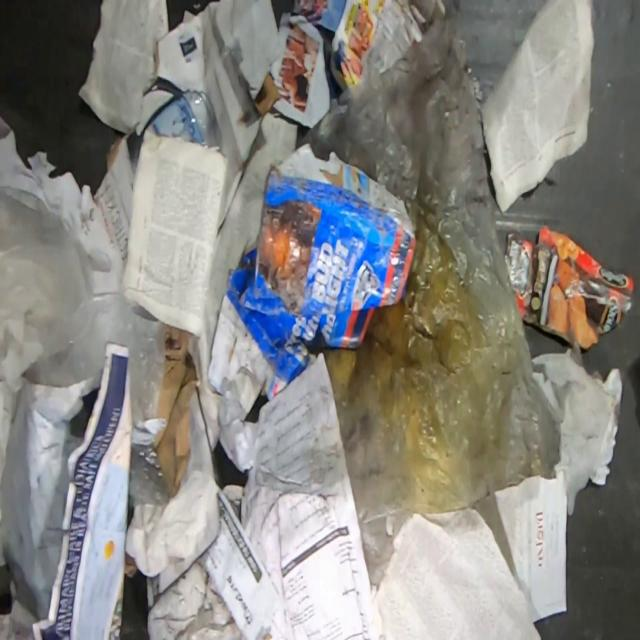cardboard: (206, 143, 416, 400), (93, 0, 282, 269), (505, 224, 636, 351)
soft_plastic: (297, 0, 561, 595), (0, 188, 165, 466), (127, 443, 167, 508)
